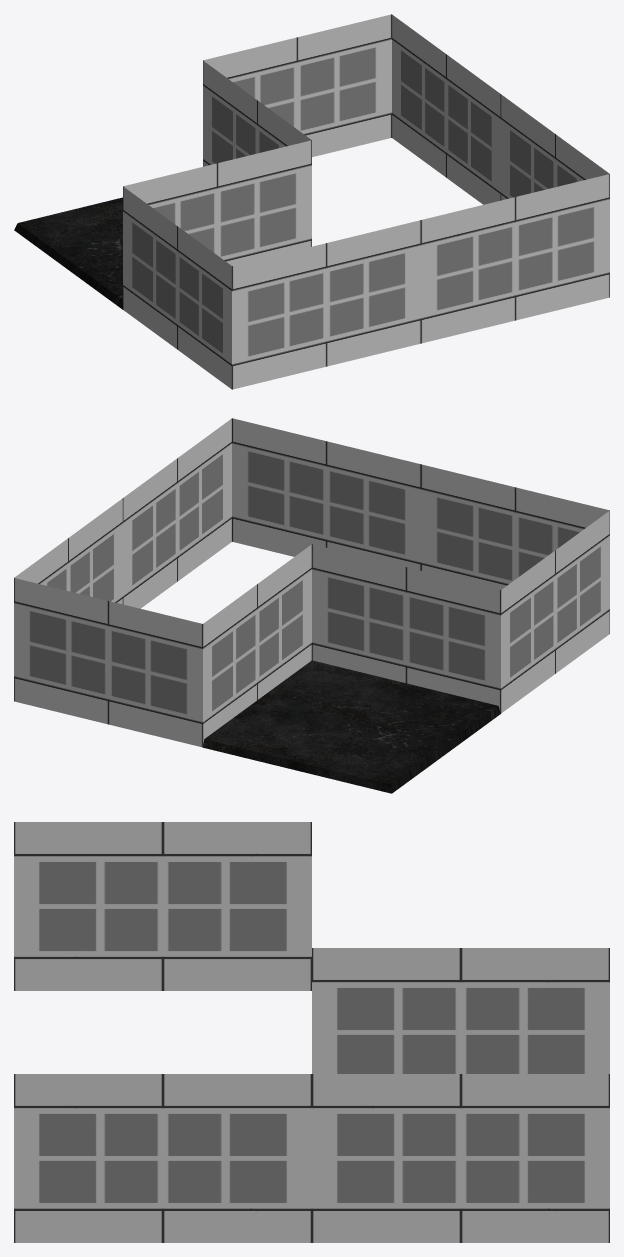
The model's file is highrise_4to3.glb.
3 views of the same model, one above another, from view 1: azimuth 30°, elevation 25°; view 2: azimuth 150°, elevation 25°; view 3: azimuth 270°, elevation 25° (orthographic). The views are drawn at different scales.
Visible parts, largest first — view 1: Highrise.4to3; view 2: Highrise.4to3; view 3: Highrise.4to3.
Boxes of the visible parts, x1,y1,x2,y2 form: Highrise.4to3: [14, 14, 609, 389]; Highrise.4to3: [14, 418, 609, 793]; Highrise.4to3: [14, 822, 609, 1242].
Size of the model in its own units: 0.8 by 0.2503 by 0.8.
Materials: 1 (1 with a texture image).
